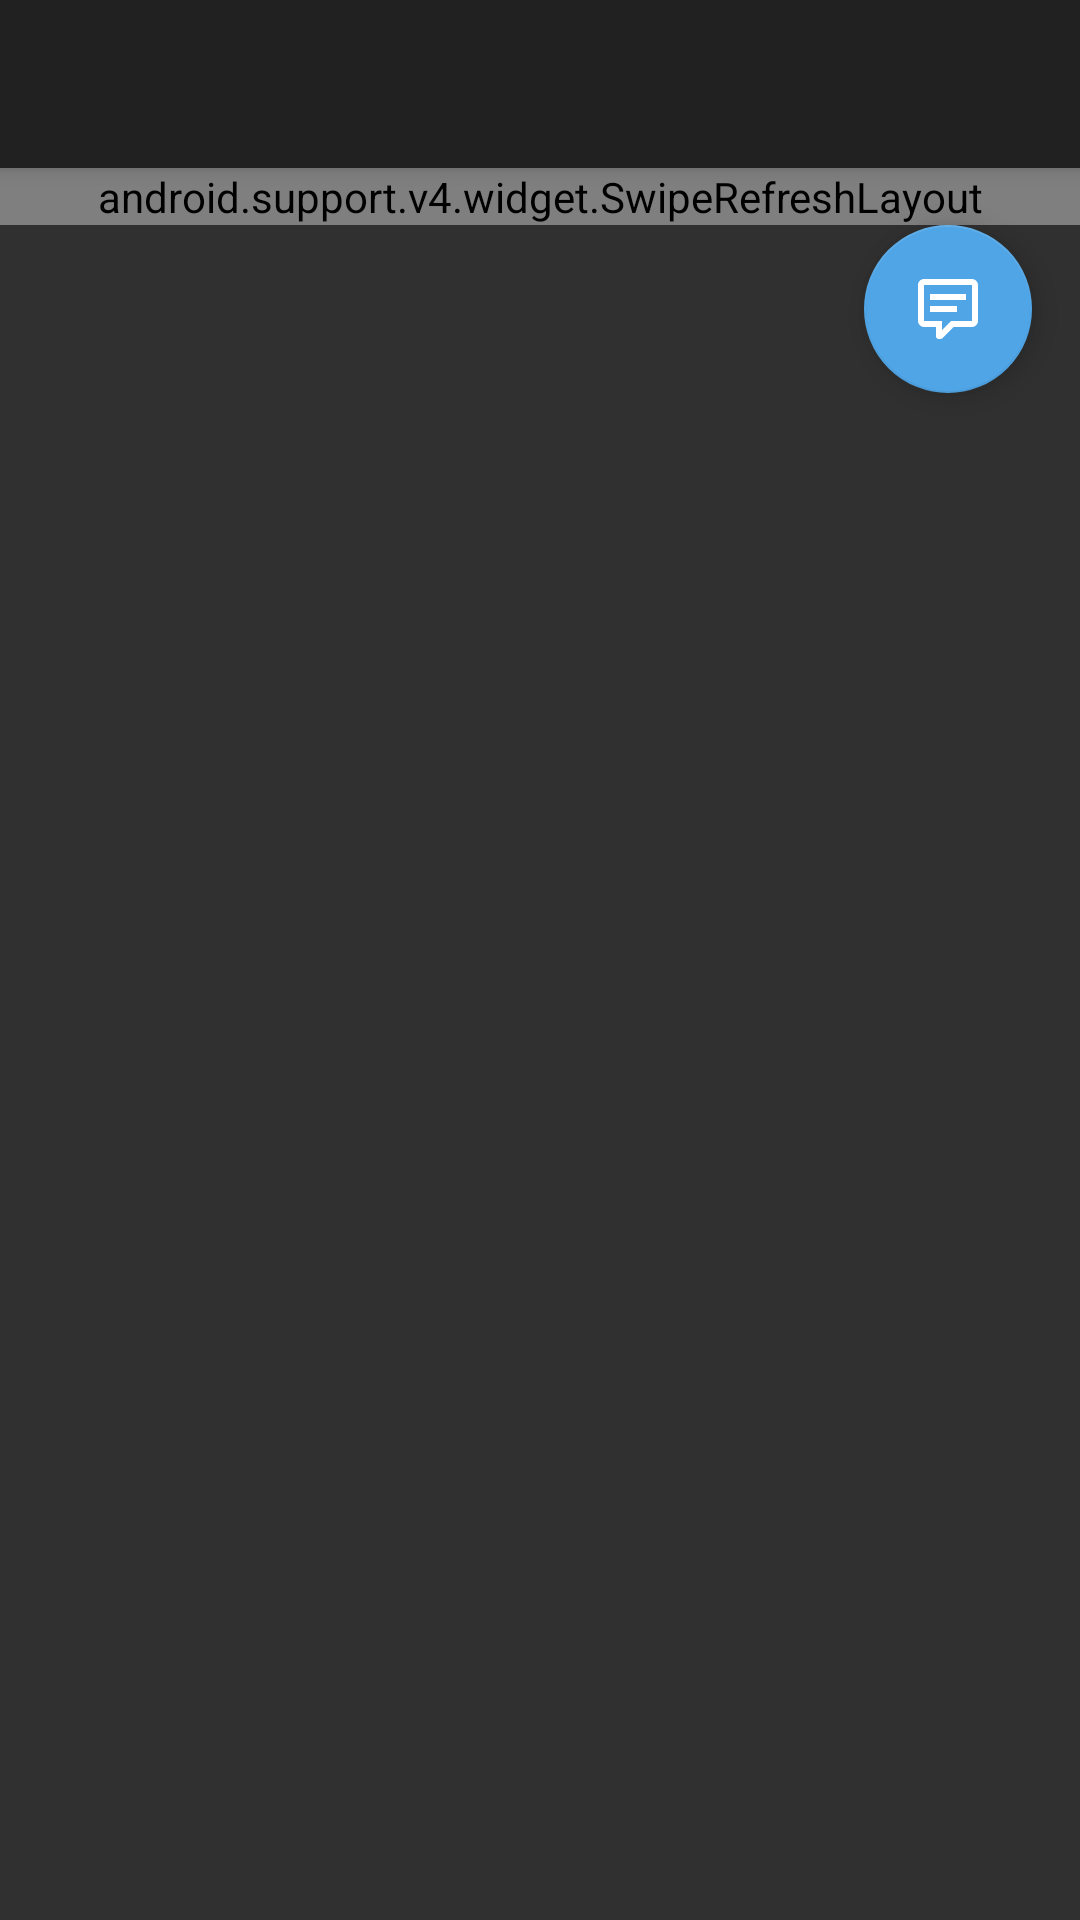

Named icons in this screenshot (1080w x 1920h) and their bounding boxes, (x1, y1, x2, y2):
compose tweet: (864, 225, 1032, 393)
